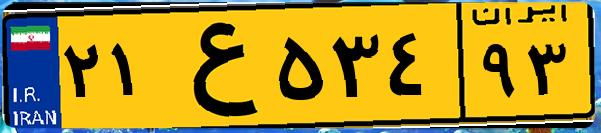1: (110, 28, 158, 98)
2: (57, 26, 110, 100)
3: (330, 28, 385, 110), (525, 38, 570, 115)
4: (385, 28, 445, 110)
5: (270, 28, 330, 110)
9: (475, 38, 525, 113)
ع: (158, 12, 270, 120)
